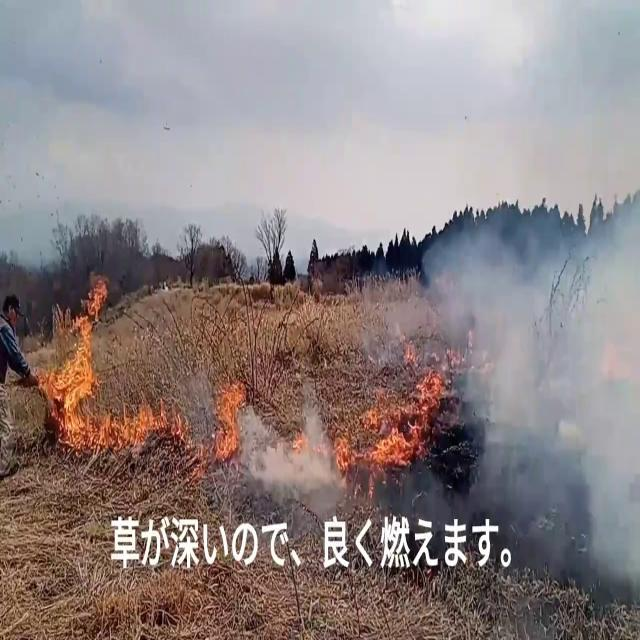Fire: (40, 277, 109, 443), (341, 393, 419, 478), (199, 374, 258, 464)
Smoke: (383, 146, 640, 524)
